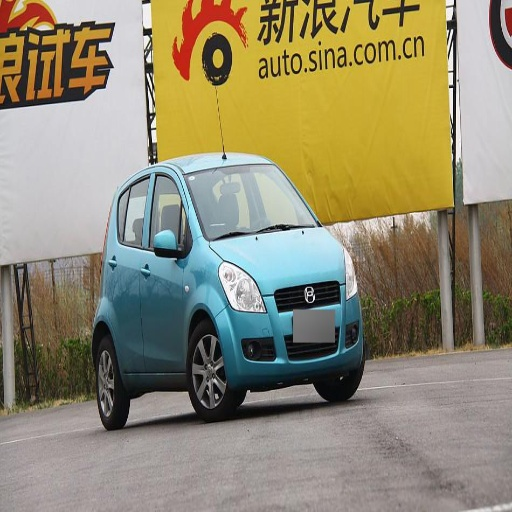front_bumper: (229, 282, 364, 385)
front_right_door: (138, 169, 189, 372)
front_right_light: (219, 265, 265, 312)
